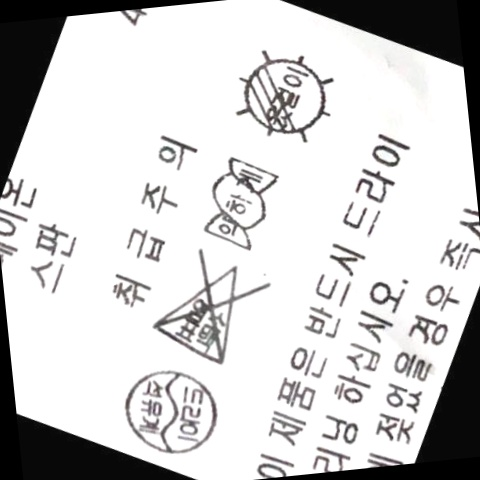dry_clean_petrol_only: (120, 363, 229, 458)
line_dry_in_shade: (230, 48, 339, 150)
non_chlorine_bleach: (153, 252, 263, 369)
wring: (198, 156, 291, 252)
